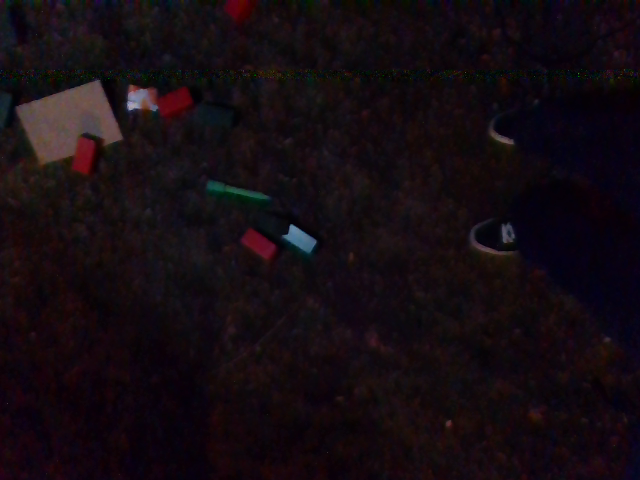Probe: (202, 175, 281, 210)
